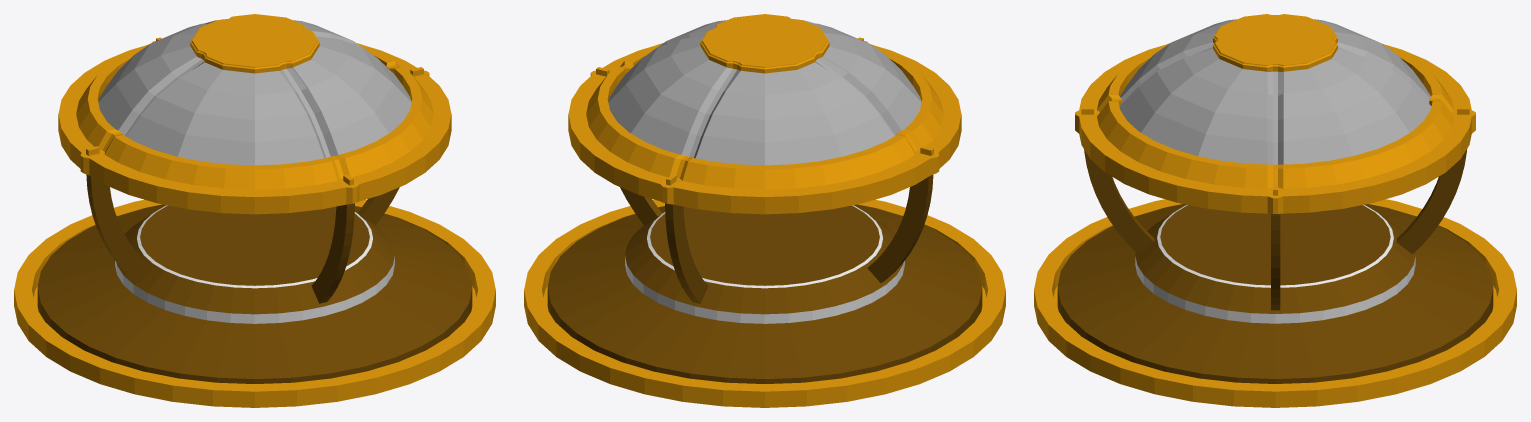
File: ornateTable_2.fbx
3 views of the same model, side by side, from view 1: azimuth 30°, elevation 25°; view 2: azimuth 150°, elevation 25°; view 3: azimuth 270°, elevation 25° (orthographic).
Visible parts, largest first — view 1: polySurface18, polySurface10, pCylinder4, polySurface19, polySurface16, pCube1, pCube4, pCube3; view 2: polySurface18, polySurface10, pCylinder4, polySurface19, polySurface16, pCube1, pCube2, pCube3; view 3: polySurface18, polySurface10, pCylinder4, polySurface19, polySurface16, pCube2, pCube4, pCube3.
Part boxes in pixels (box(x1,y1,x2,y2)): polySurface18: box(37, 204, 472, 383); polySurface10: box(98, 19, 411, 165); pCylinder4: box(58, 37, 451, 214); polySurface19: box(14, 199, 495, 407); polySurface16: box(190, 14, 319, 73); pCube1: box(86, 174, 151, 283); pCube4: box(311, 203, 354, 303); pCube3: box(357, 187, 399, 225); polySurface18: box(547, 204, 982, 383); polySurface10: box(608, 19, 921, 165); pCylinder4: box(568, 37, 961, 214); polySurface19: box(524, 199, 1005, 407); polySurface16: box(700, 14, 829, 73); pCube1: box(867, 175, 933, 283); pCube2: box(665, 203, 708, 303); pCube3: box(620, 187, 662, 225); polySurface18: box(1057, 204, 1493, 383); polySurface10: box(1119, 19, 1431, 164); pCylinder4: box(1075, 43, 1475, 213); polySurface19: box(1034, 199, 1516, 407); polySurface16: box(1213, 14, 1337, 71); pCube2: box(1396, 149, 1466, 254); pCube4: box(1084, 149, 1154, 254); pCube3: box(1271, 214, 1280, 310).
Size of the model in its own units: 4.88 by 2.97 by 4.88.
